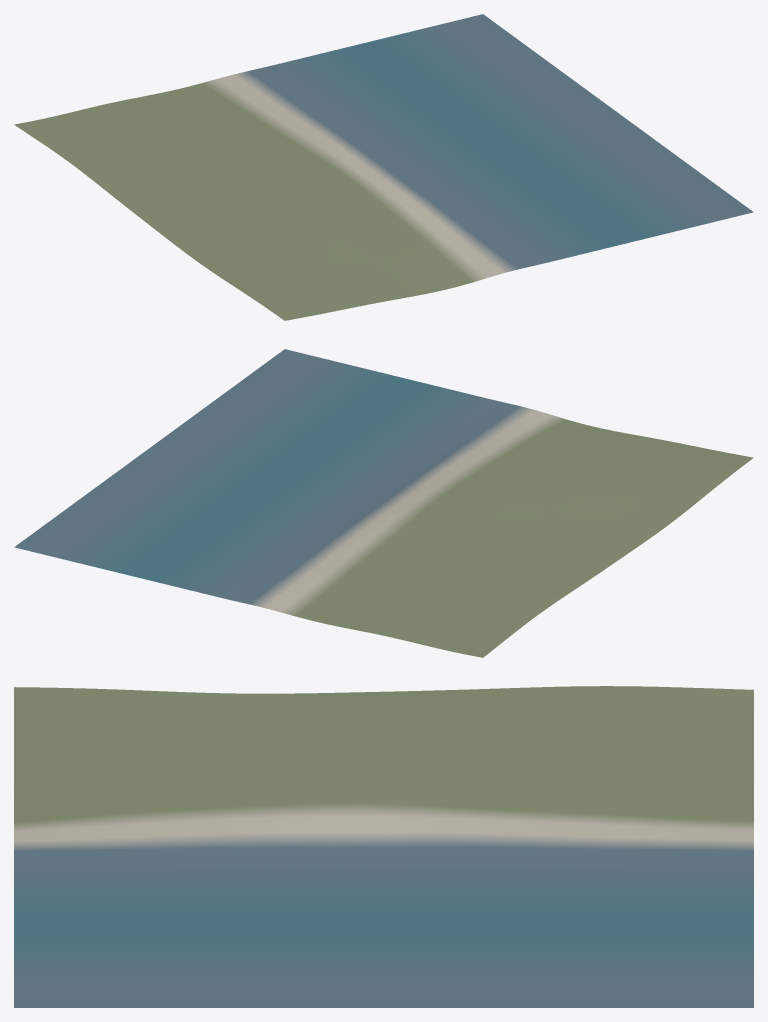
3 renders of one model, top to bottom at view 1: azimuth 30°, elevation 25°; view 2: azimuth 150°, elevation 25°; view 3: azimuth 270°, elevation 25°, orthographic. The views are drawn at different scales.
Size of the model in its own units: 300 by 9.25 by 300.
